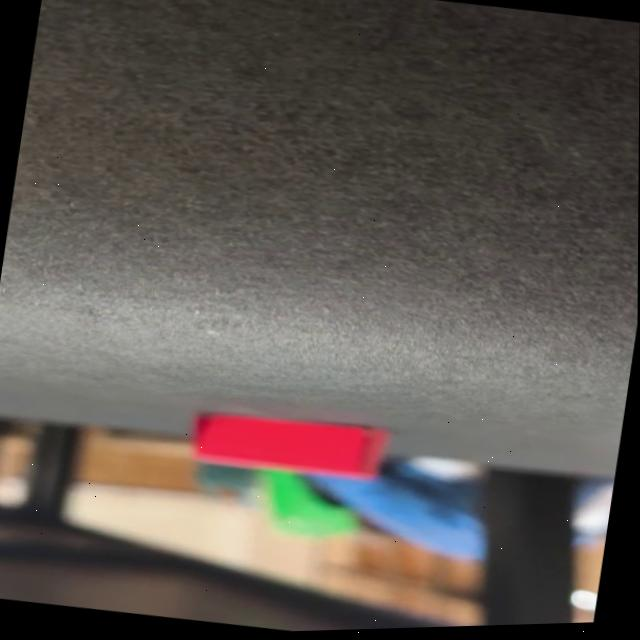red block: (187, 402, 392, 491)
